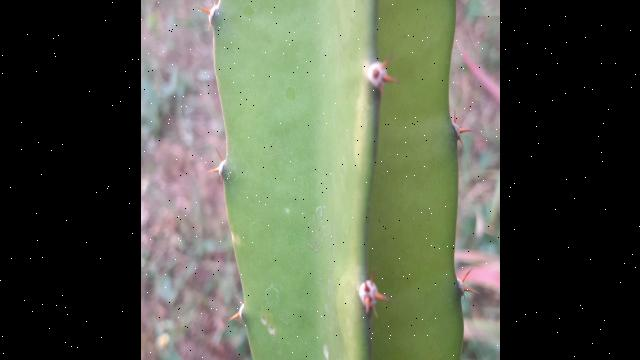stemcanker: (259, 304, 278, 338), (228, 224, 240, 245), (232, 275, 241, 294)
